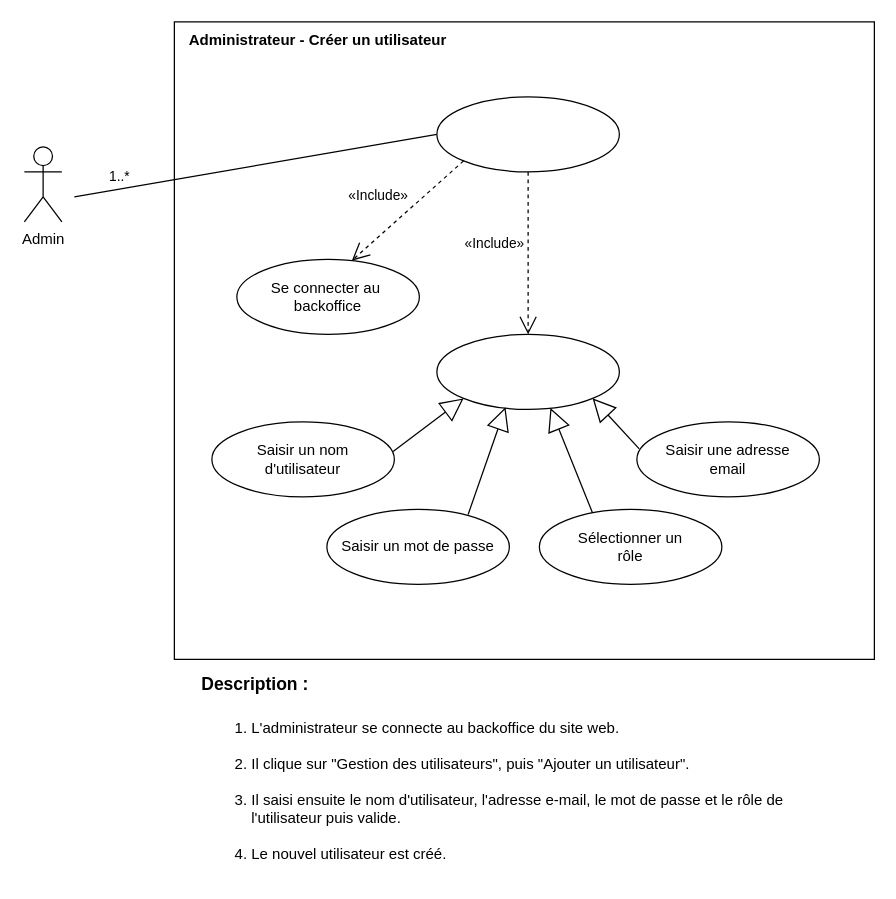
Some shapes in this 896 by 899 pixel diagram are drawn without their labels. Here are the shapes that lost their labels. From the top down, the box of each, then its label:
(436, 96, 619, 172): Créer un nouveau compte utilisateur
(436, 333, 619, 409): Saisir les informations du compte
